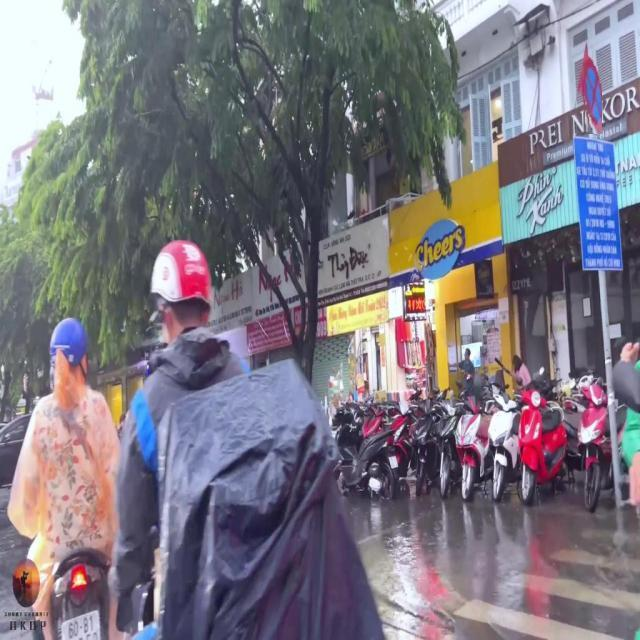130-cam-dung-va-do-xe: (580, 56, 606, 134)
